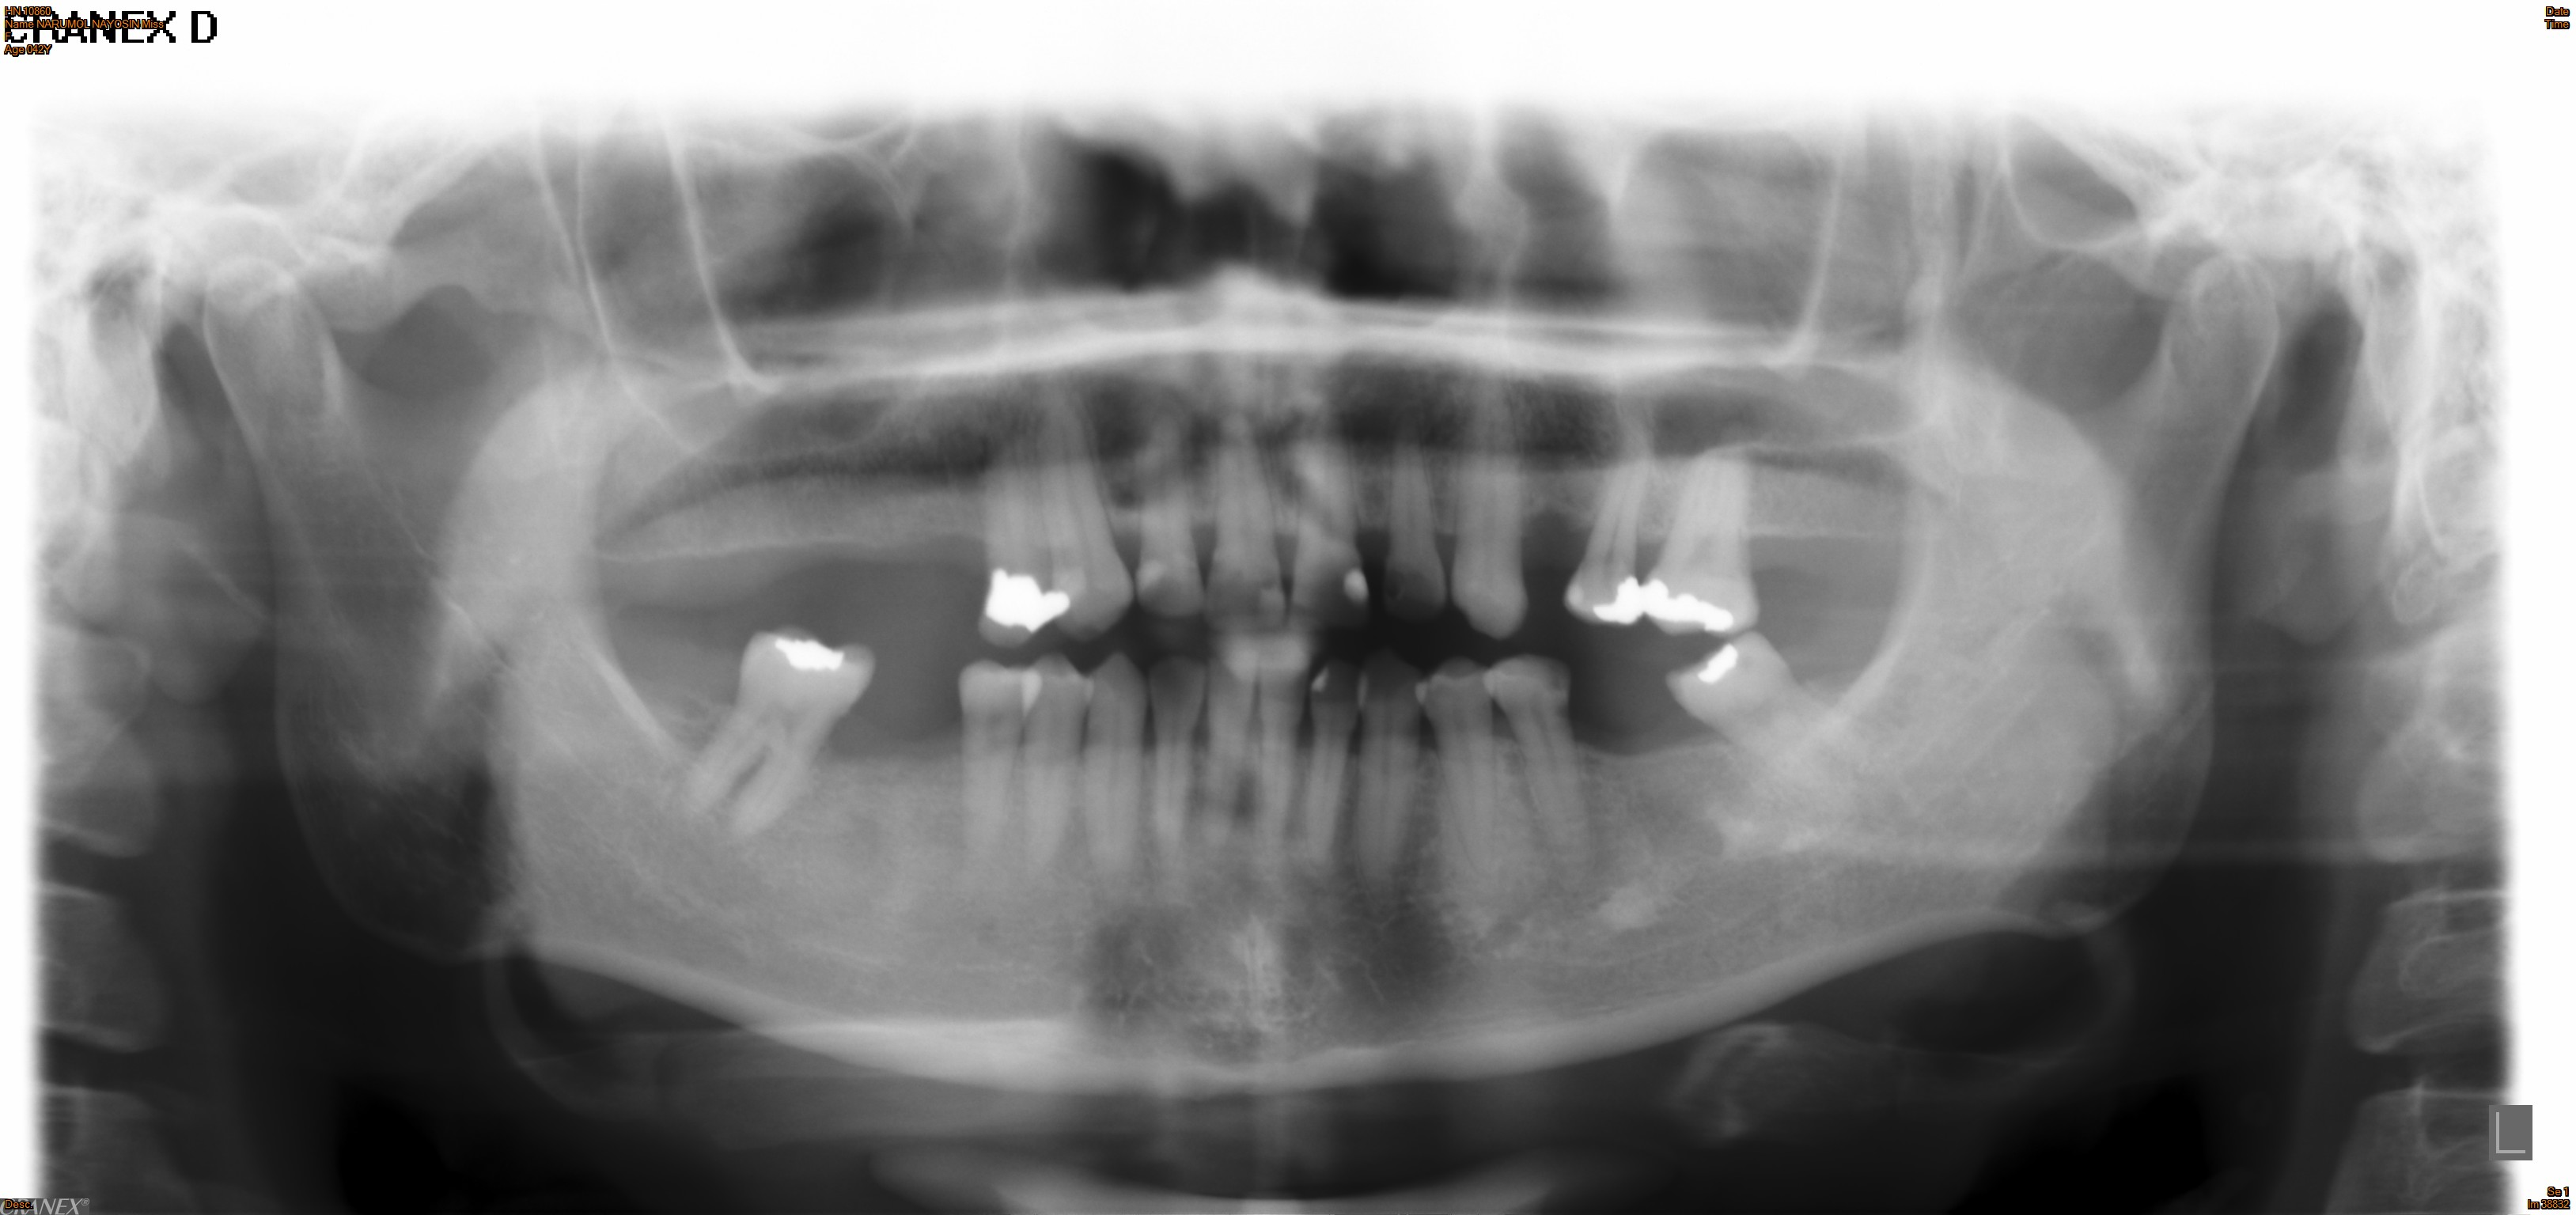periodontitis: (651, 621, 882, 852), (1659, 622, 1916, 823), (1475, 644, 1613, 901), (961, 412, 1074, 658), (1641, 427, 1773, 639), (1442, 366, 1533, 649), (1559, 420, 1666, 630), (945, 650, 1033, 887)
